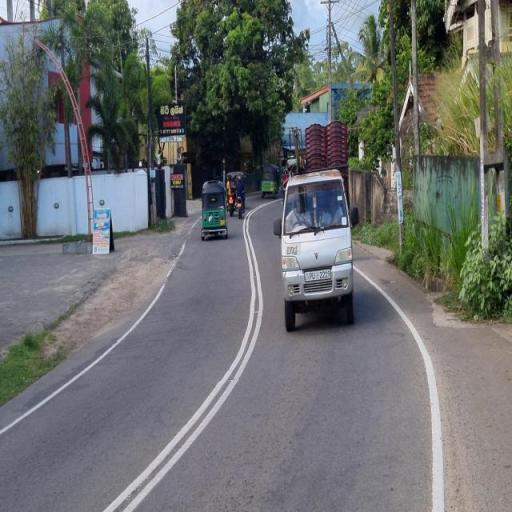double_white_line: (104, 205, 266, 511)
